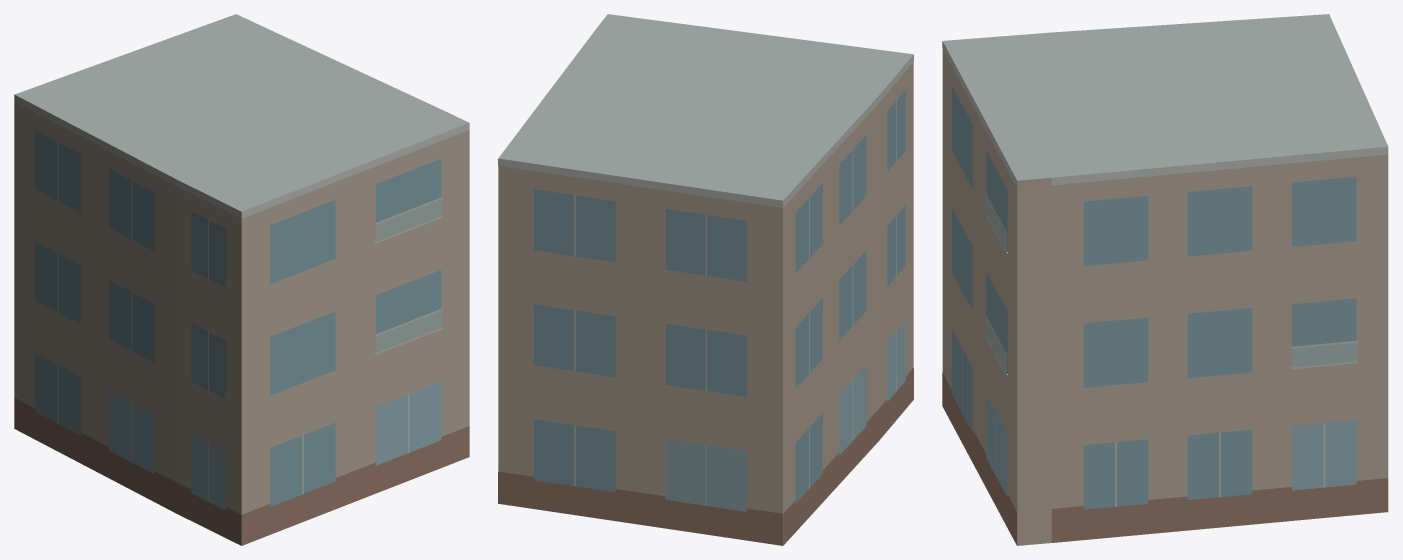
File: survey-upis-32678650.glb
3 views of the same model, side by side, from view 1: azimuth 30°, elevation 25°; view 2: azimuth 150°, elevation 25°; view 3: azimuth 270°, elevation 25° (orthographic). The views are drawn at different scales.
Visible parts, largest first — view 1: survey-upis-32678650.tmp; view 2: survey-upis-32678650.tmp; view 3: survey-upis-32678650.tmp.
Boxes of the visible parts, <box> form: survey-upis-32678650.tmp: <box>14,14,469,545</box>; survey-upis-32678650.tmp: <box>498,14,913,545</box>; survey-upis-32678650.tmp: <box>942,14,1388,545</box>.
Bounding box in the file's own units: 11.26 × 11.5 × 12.73.
